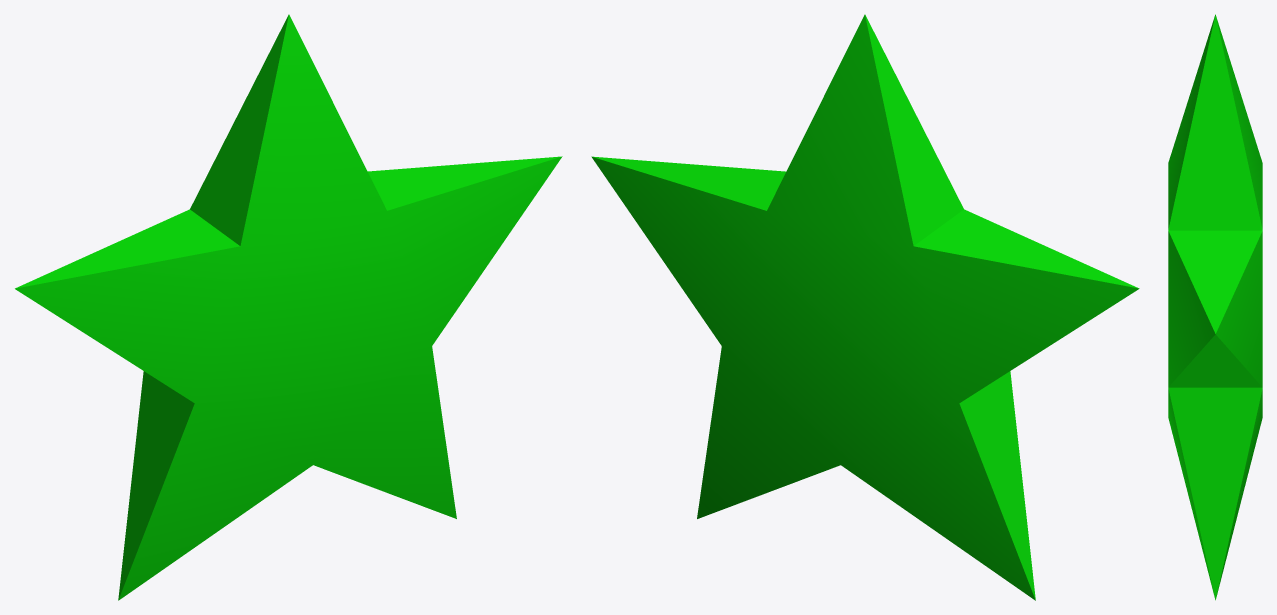
The model's file is 058 Star.fbx.
3 views of the same model, side by side, from view 1: azimuth 30°, elevation 25°; view 2: azimuth 150°, elevation 25°; view 3: azimuth 270°, elevation 25° (orthographic). The views are drawn at different scales.
Parts seen in each view (by area): view 1: Lowpoly_Christmas_Pack_058:pCylinder1; view 2: Lowpoly_Christmas_Pack_058:pCylinder1; view 3: Lowpoly_Christmas_Pack_058:pCylinder1.
Part boxes in pixels (x1,y1,x2,y2): Lowpoly_Christmas_Pack_058:pCylinder1: (15, 14, 562, 600); Lowpoly_Christmas_Pack_058:pCylinder1: (591, 14, 1139, 600); Lowpoly_Christmas_Pack_058:pCylinder1: (1168, 14, 1262, 600).
Bounding box in the file's own units: 2.39 × 2.28 × 0.3824.
